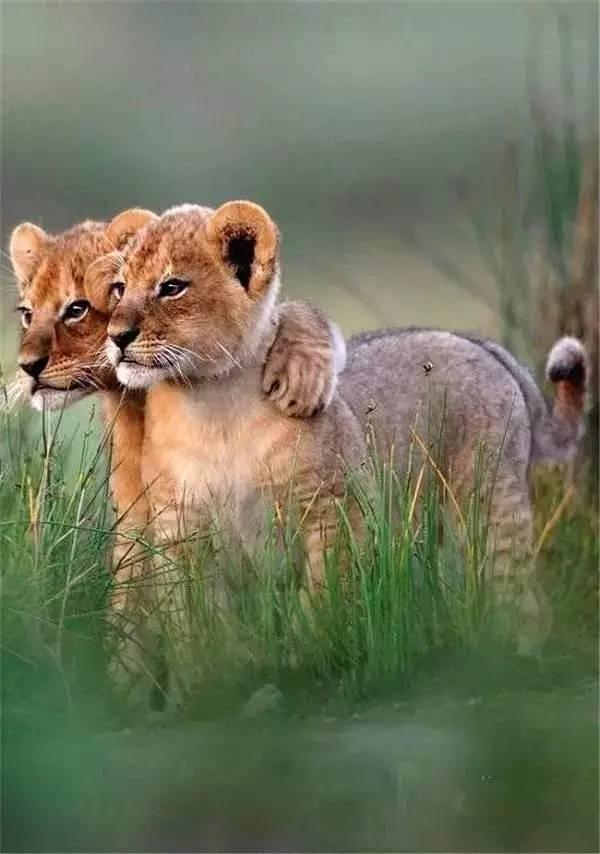animal: (107, 197, 557, 643), (3, 190, 423, 559)
